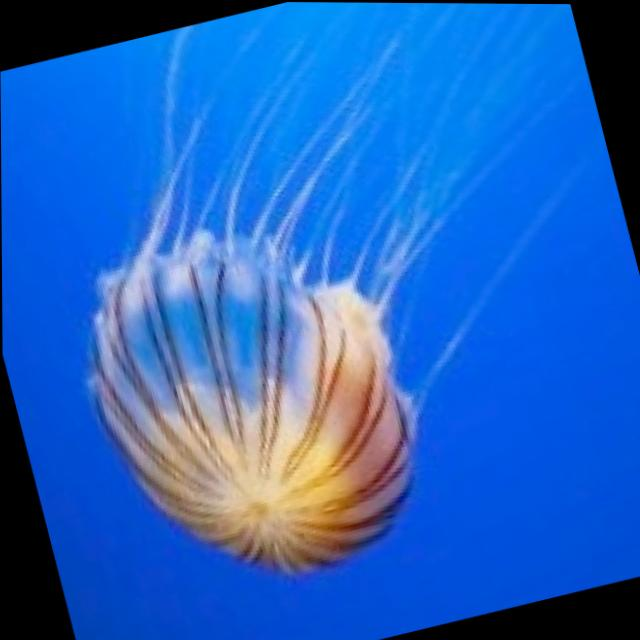Jellyfish: (2, 0, 640, 615)
